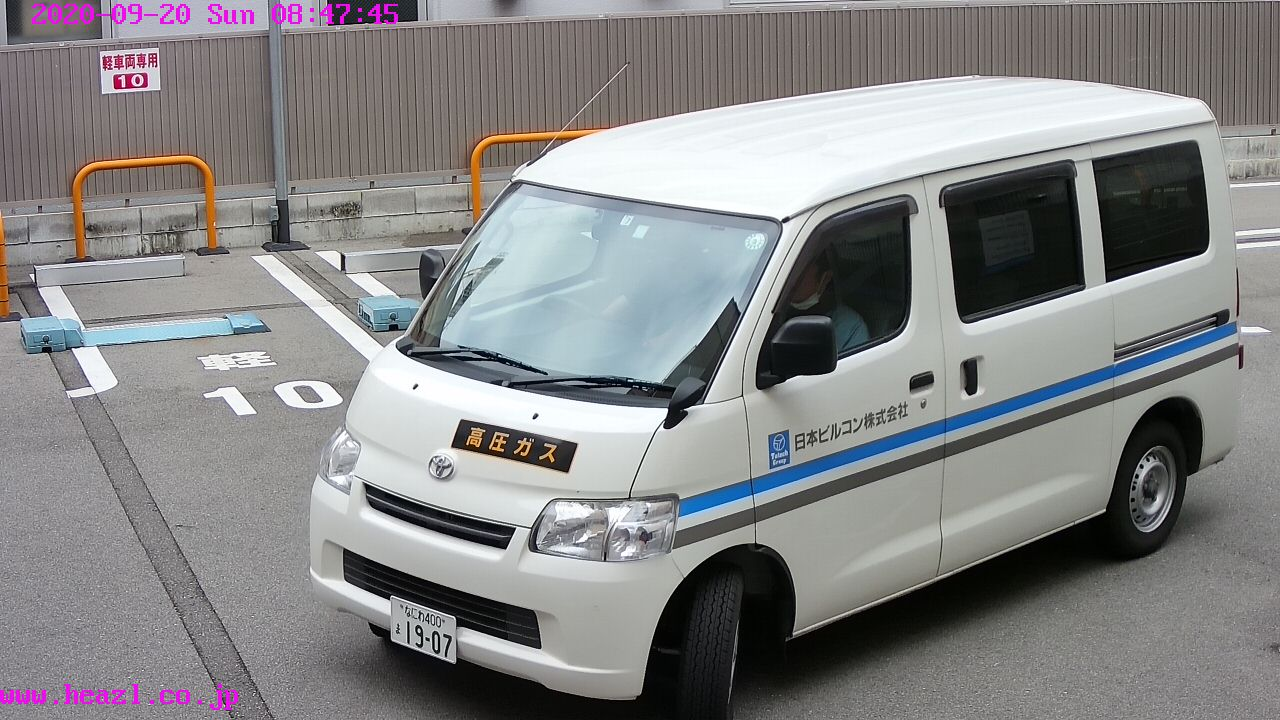number_plate: (389, 594, 457, 663)
